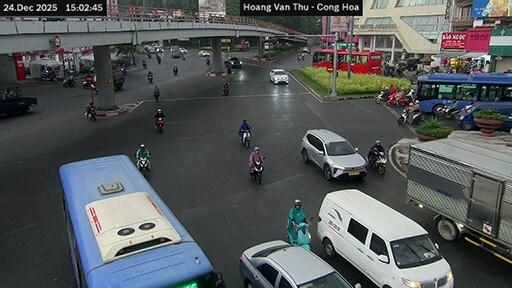motorbike: (290, 221, 310, 248), (396, 108, 422, 124), (368, 152, 386, 174), (438, 100, 458, 117), (252, 158, 262, 183), (387, 93, 406, 106), (137, 157, 149, 175), (83, 80, 96, 94), (374, 90, 387, 103), (39, 68, 53, 80), (83, 108, 95, 121), (154, 117, 163, 133), (61, 76, 73, 86), (242, 130, 249, 147), (118, 66, 125, 75), (153, 90, 159, 100), (223, 85, 229, 94), (147, 74, 152, 82), (172, 66, 176, 75), (156, 54, 159, 63), (181, 53, 185, 59), (227, 66, 230, 72), (205, 58, 208, 64), (143, 62, 146, 67)
